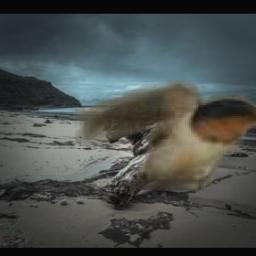Swallow: (75, 80, 256, 190)
